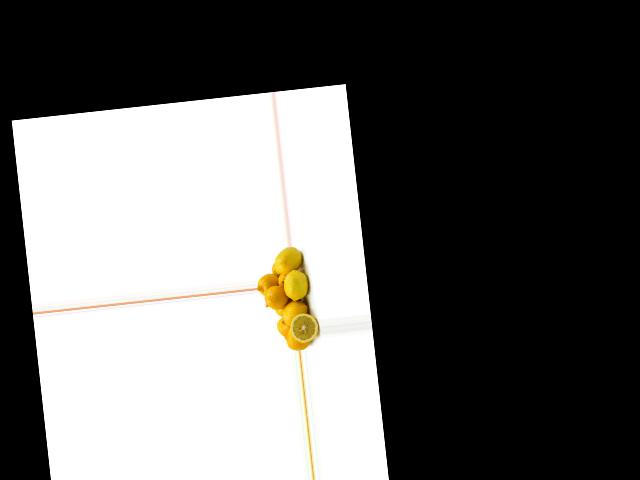lemon: (285, 326, 310, 350)
